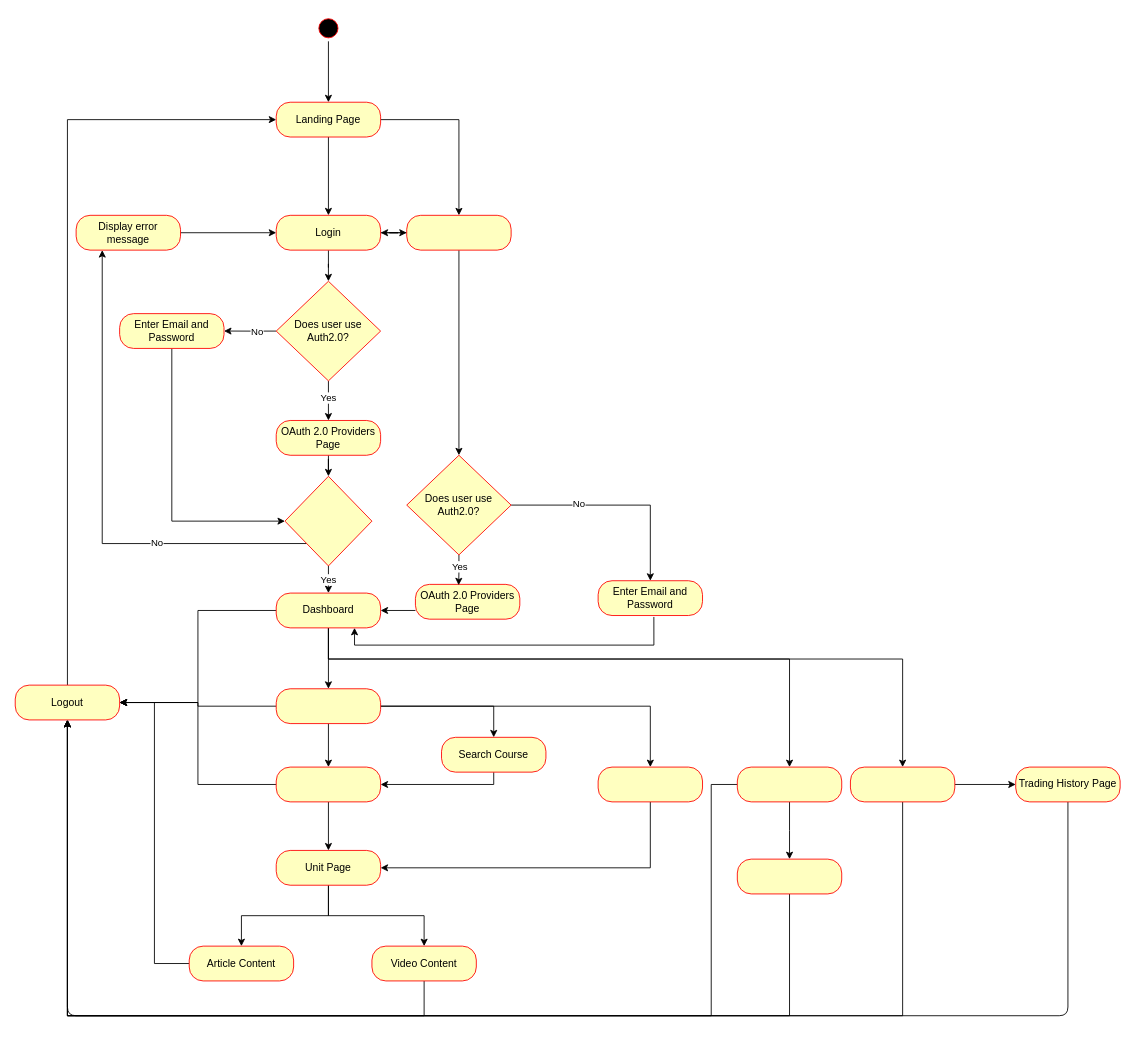
Some shapes in this 1135 by 1038 pixel diagram are drawn without their labels. Here are the shapes that lost their labels. From the top down, the centre of each, then its label:
point 458,232: Signup
point 328,520: AreCredentials valid
point 328,706: All Courses
point 328,784: Course Page
point 650,784: Search Unit
point 789,784: Research Page
point 902,784: Trading Page
point 789,876: Stock Information Page
